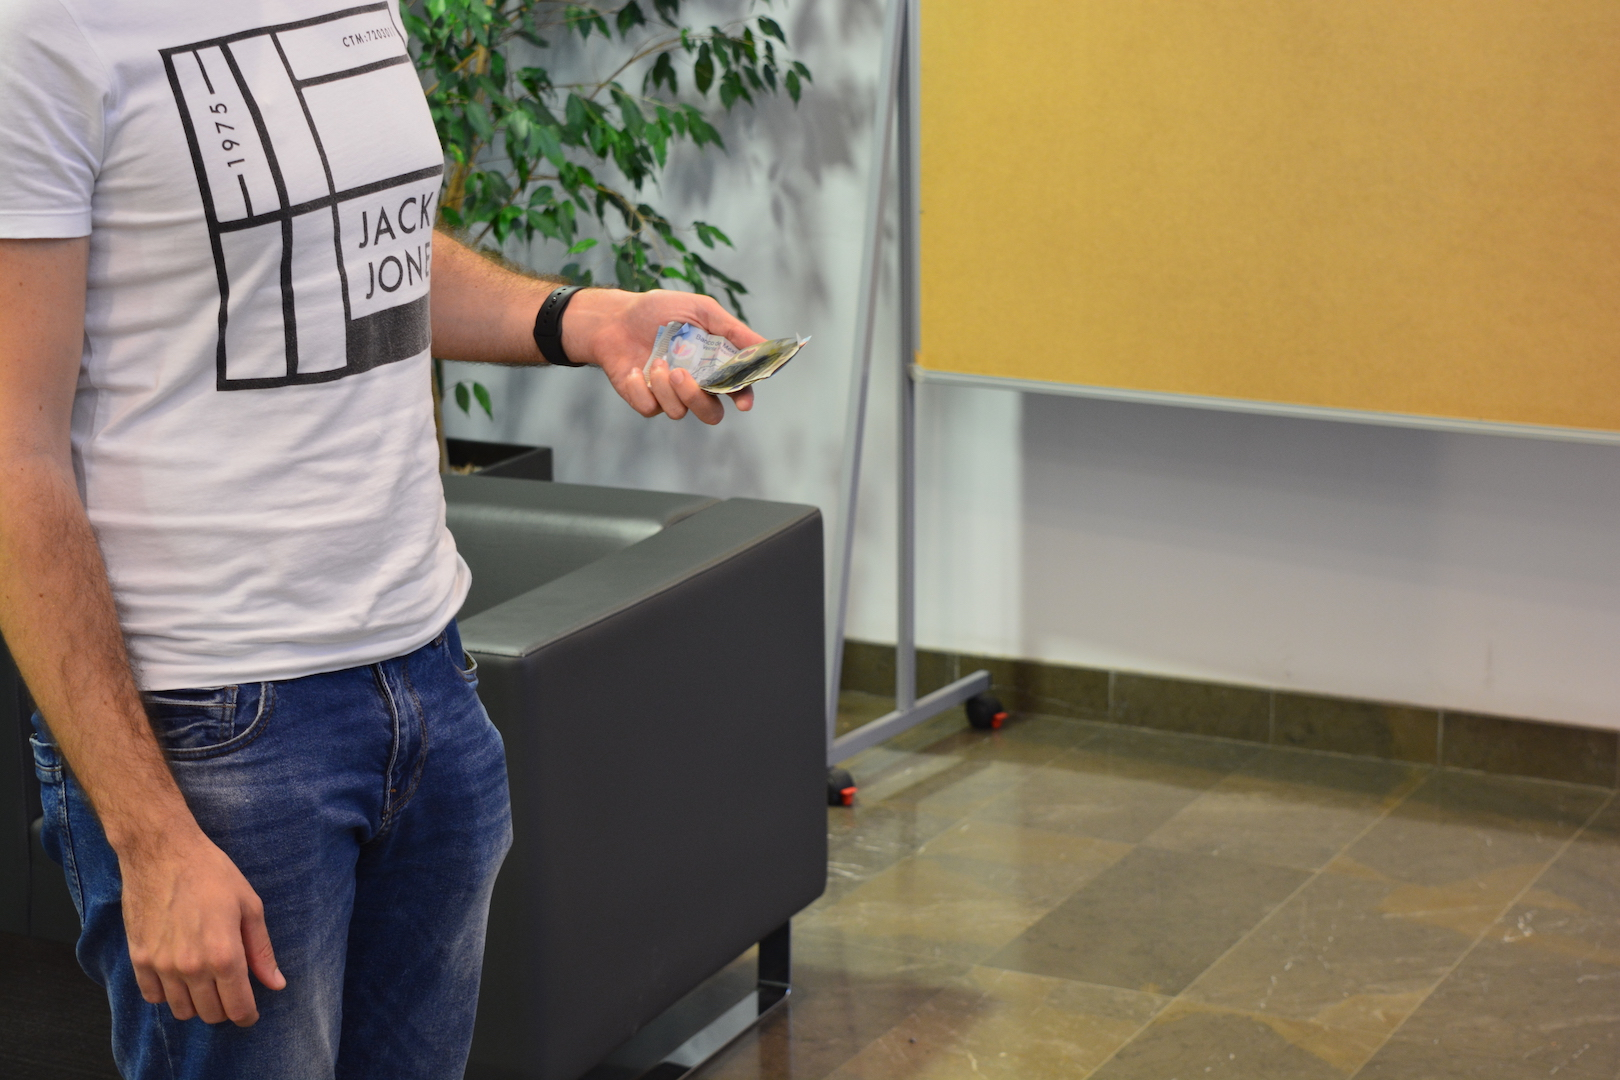billete: (634, 317, 820, 397)
